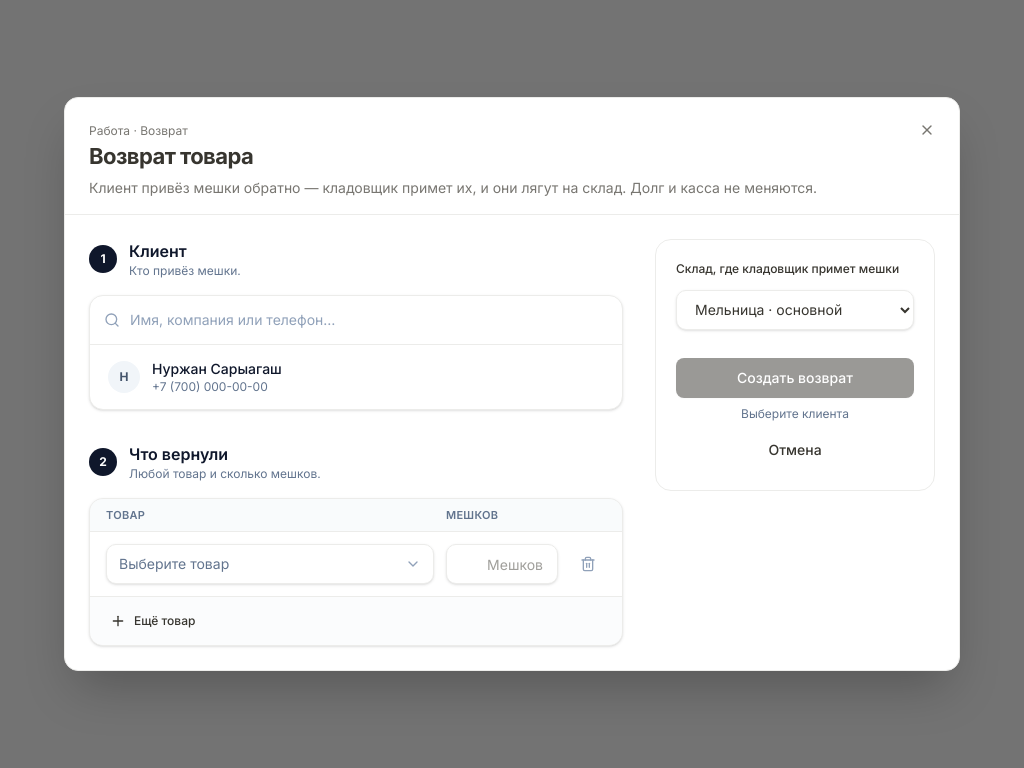
Test: GoodsReturnModal › ошибку сервера показывает в окне, правка её убирает
The image size is (1024, 768).
Click the button "Н Нуржан Сарыагаш +7 (700) 000-00-00".
click(124, 377)  # box [96,351,616,403]
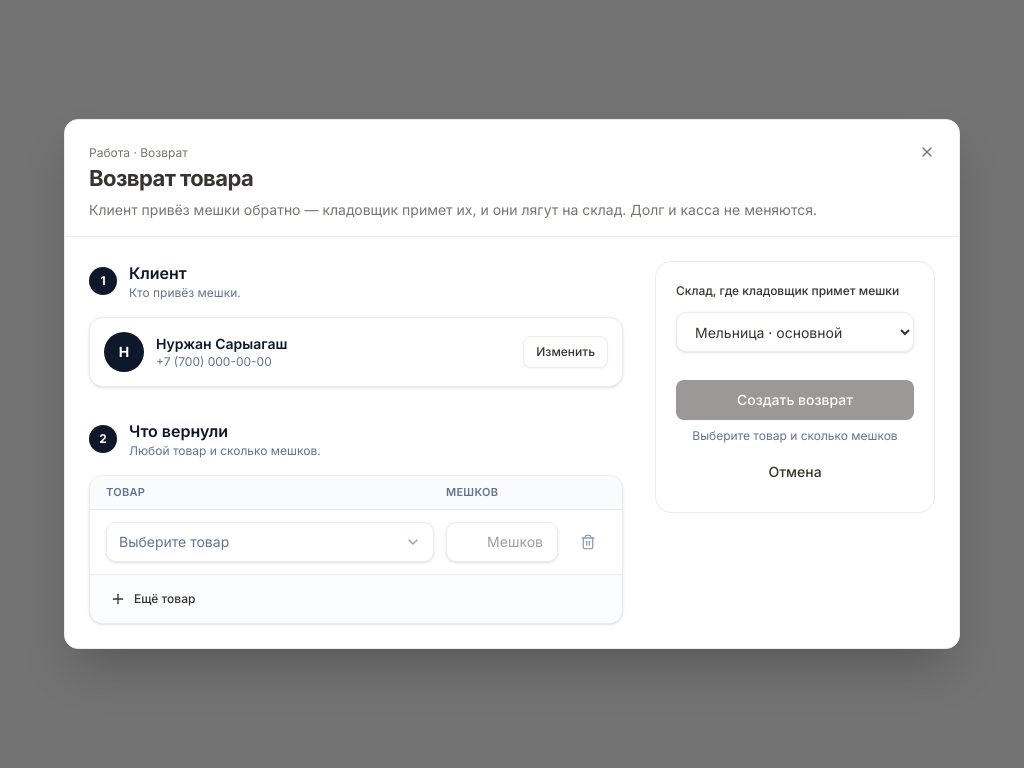
Click the button with aria-label "Товар 1".
click(174, 541)  # box [106,522,434,562]
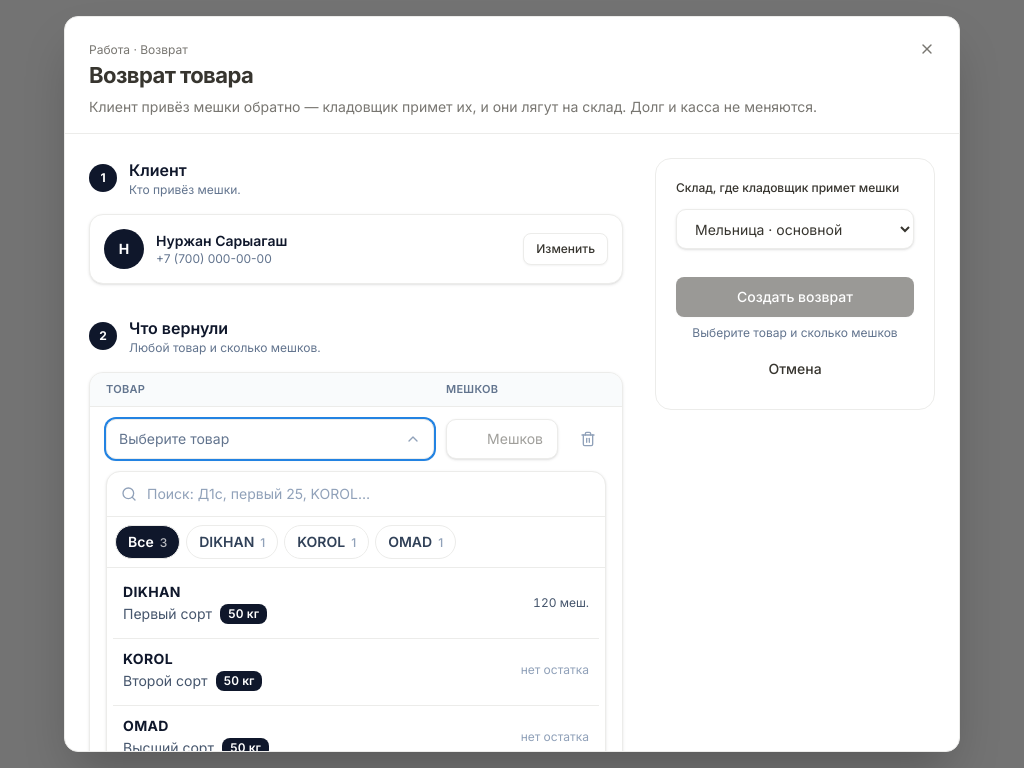
Click the option "OMAD Высший сорт 50 кг нет остатка".
click(146, 725)  # box [113,704,599,766]
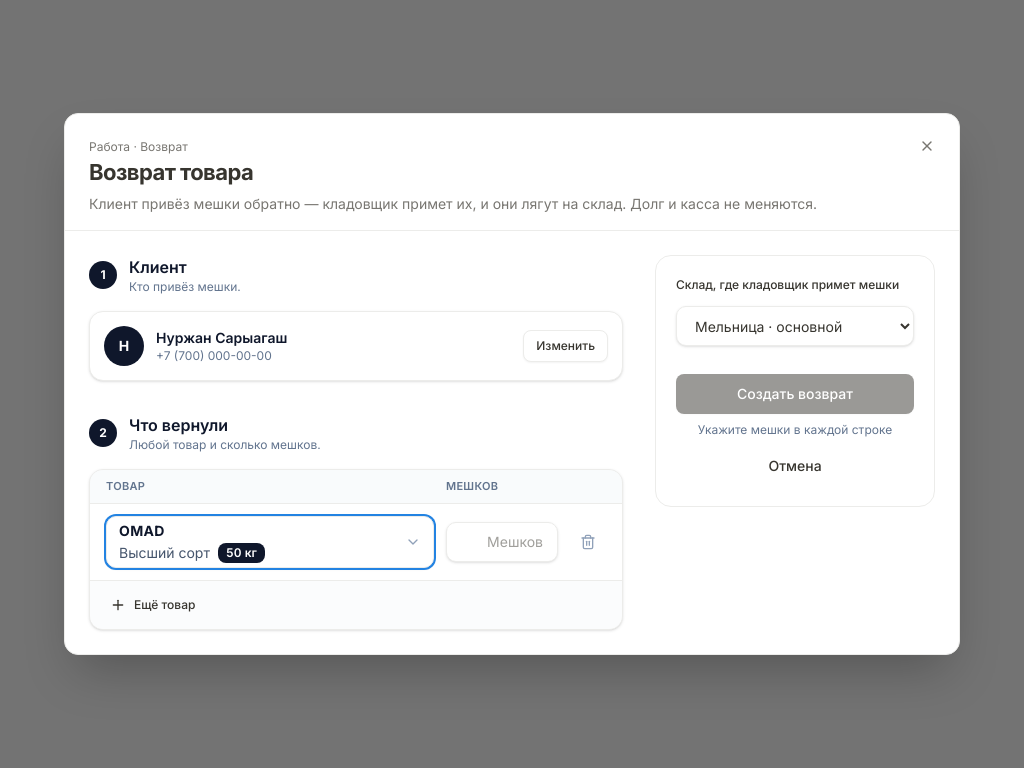
Type "2" into the field named "Мешков 1".
click(502, 542); type("2")  # box [446,522,558,562]
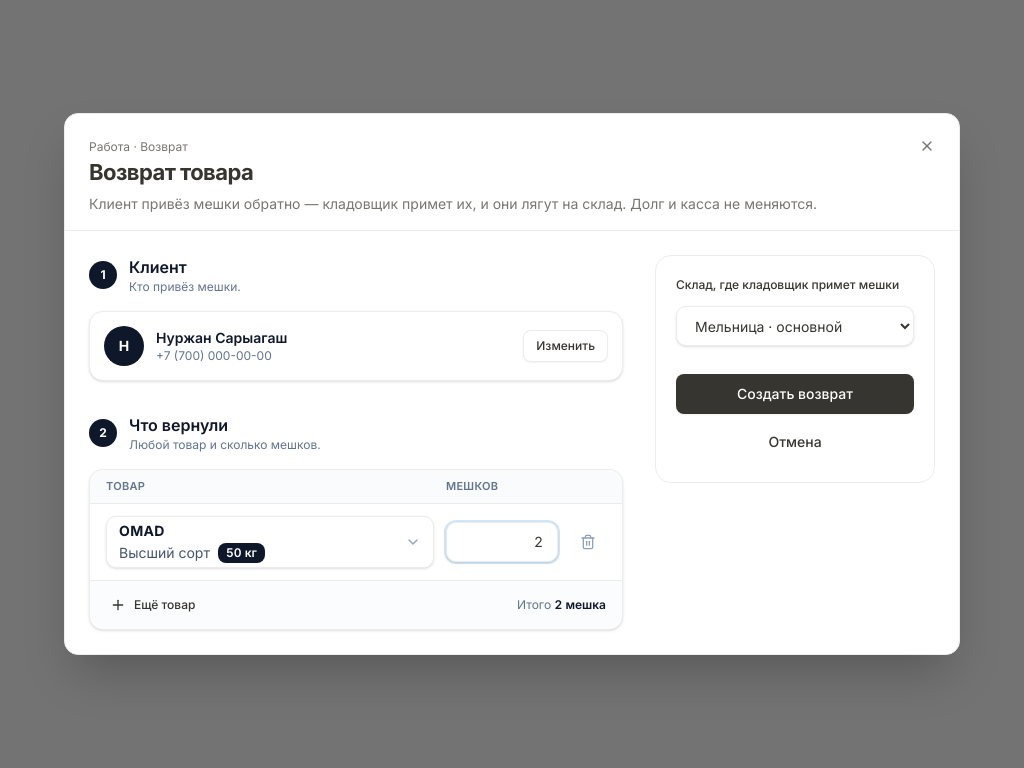
Click the button "Создать возврат".
click(795, 394)  # box [676,374,914,414]
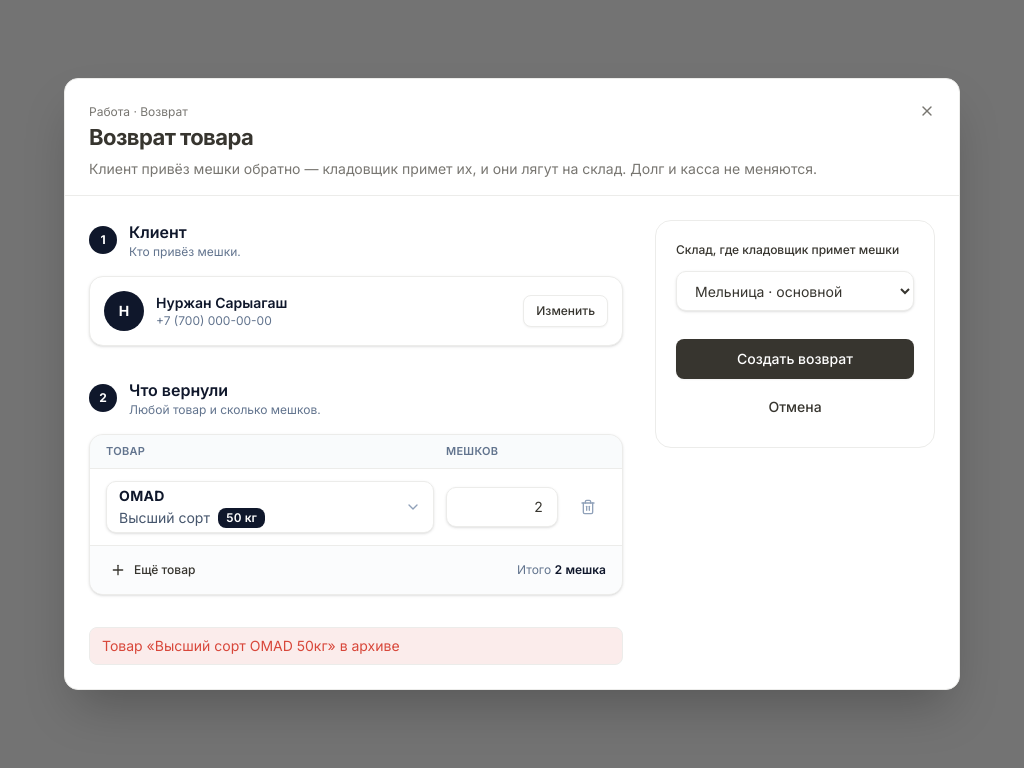
Expected: the text "Товар «Высший сорт OMAD 50кг» в архиве" is shown, [89,627,623,665]
Type "0" into the field named "Мешков 1".
click(502, 507); type("0")  # box [446,487,558,527]
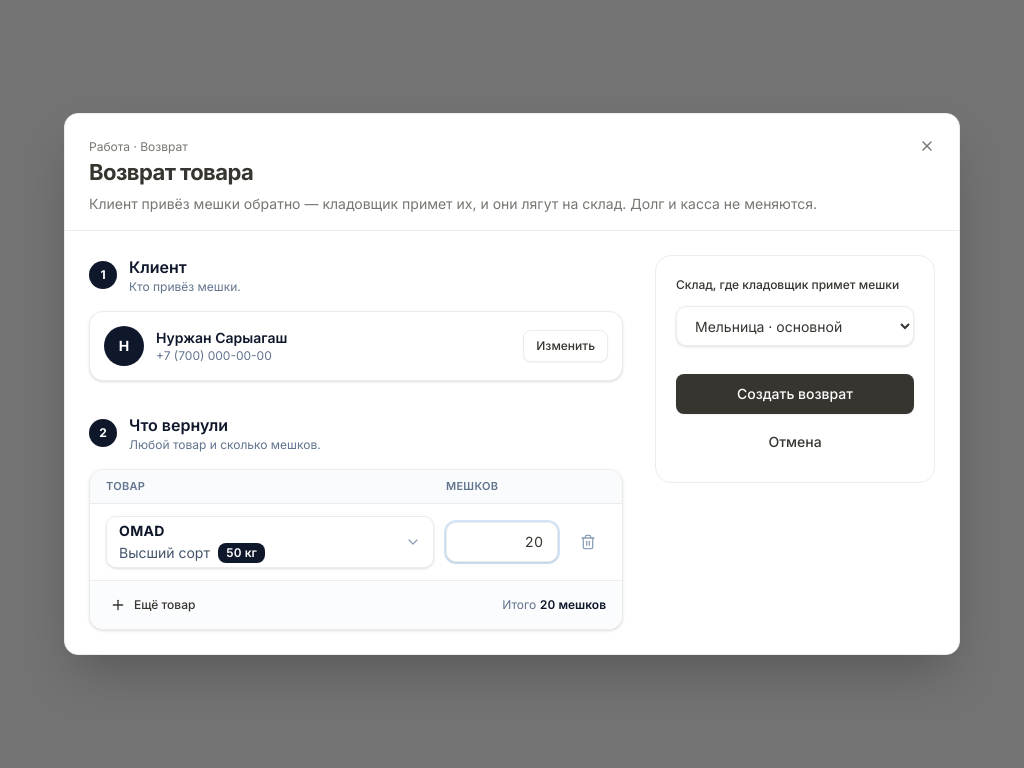
Expected: the text "в архиве" is gone
